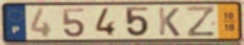4: (29, 6, 56, 40), (95, 6, 119, 38)
5: (123, 6, 151, 38), (61, 7, 86, 38)
K: (157, 6, 182, 38)
Z: (185, 5, 217, 38)
